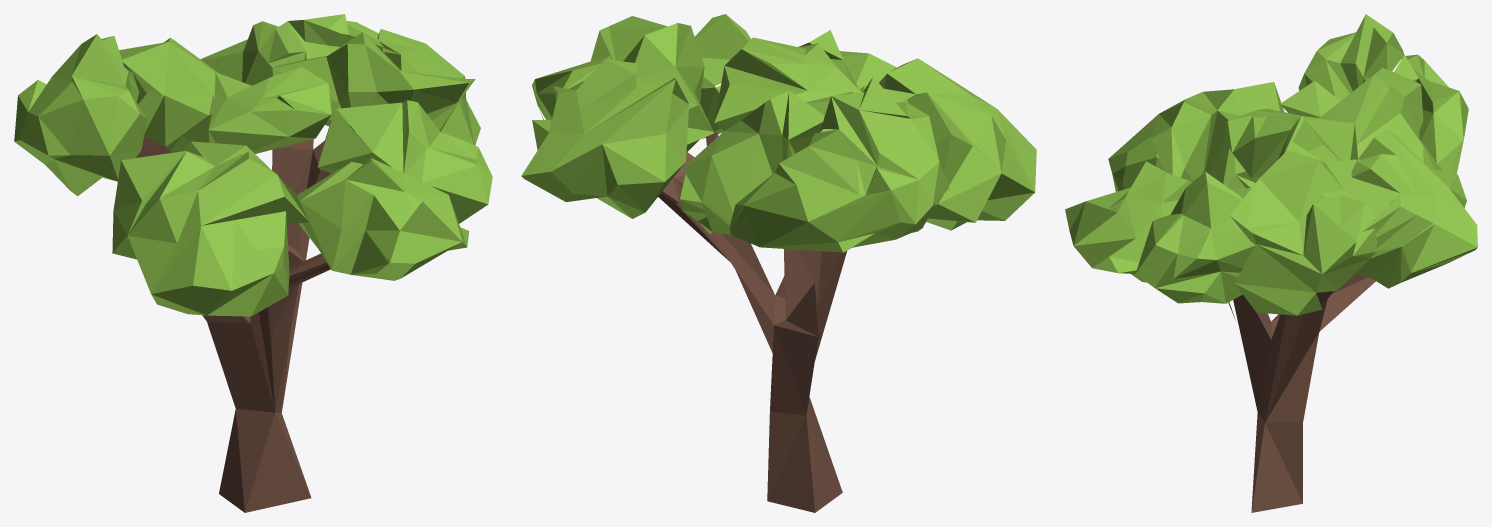
The model's file is tree.glb.
The picture shows the model from 3 angles, left to right: view 1: azimuth 30°, elevation 25°; view 2: azimuth 150°, elevation 25°; view 3: azimuth 270°, elevation 25°; orthographic projection. The views are drawn at different scales.
Parts seen in each view (by area): view 1: Node_9ba0f7, Node_238d06; view 2: Node_9ba0f7, Node_238d06; view 3: Node_9ba0f7, Node_238d06.
Part boxes in pixels (left/top/right/bottom): Node_9ba0f7: left=14, top=14, right=492, bottom=316; Node_238d06: left=136, top=136, right=370, bottom=512; Node_9ba0f7: left=521, top=14, right=1036, bottom=252; Node_238d06: left=658, top=131, right=846, bottom=512; Node_9ba0f7: left=1065, top=14, right=1477, bottom=315; Node_238d06: left=1228, top=274, right=1375, bottom=512.
Bounding box in the file's own units: 5.68 × 6 × 5.24.
